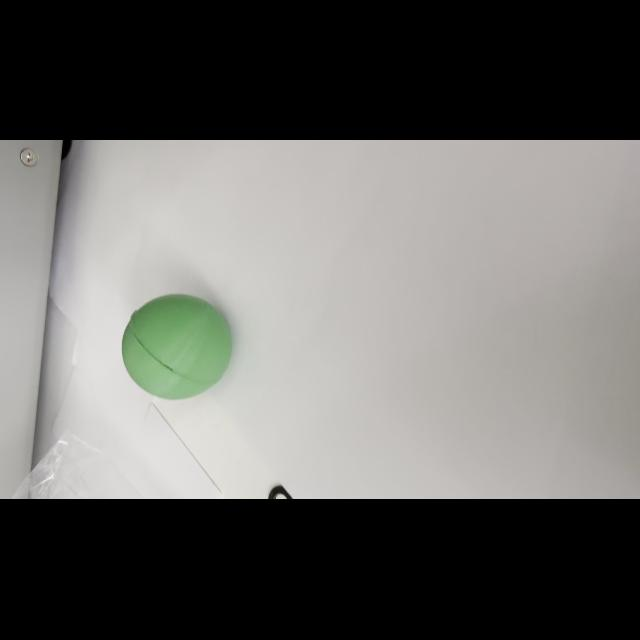objects: (117, 291, 236, 403)
